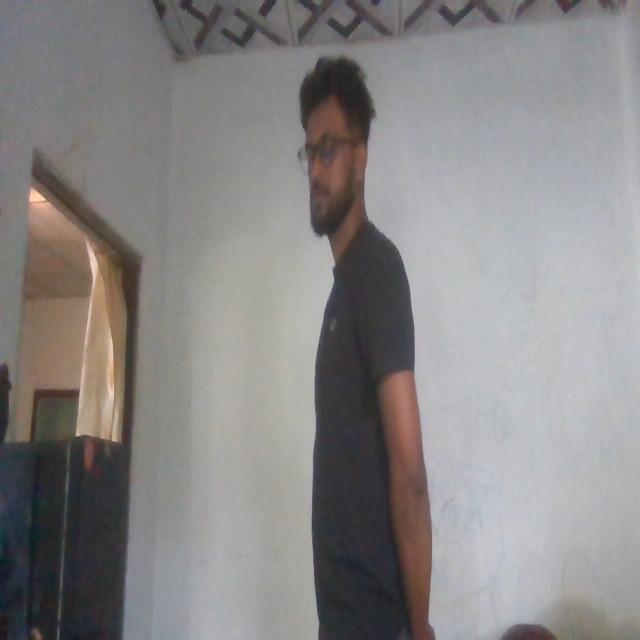Person: (289, 34, 435, 640)
